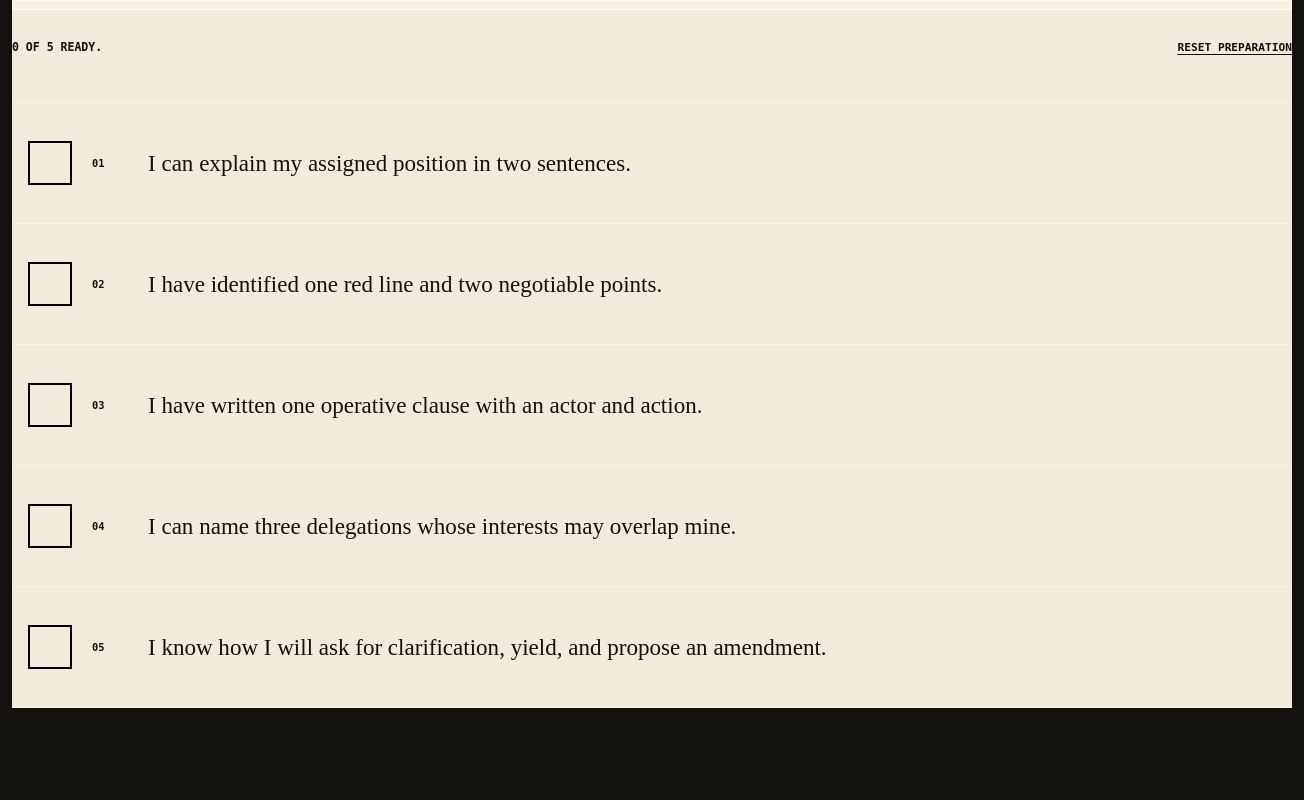
it: PreparationDesk › updates and announces exact progress using native checkboxes
The image size is (1304, 800).
Check: the message shows "0 of 5 ready", box [12,40,102,54]
What coordinates should you click on to do the following:
click the checkbox labelled "01 I can explain my assigned position in two sentences."
I would click on:
 (50, 163)
Its box is [28,141,72,185].
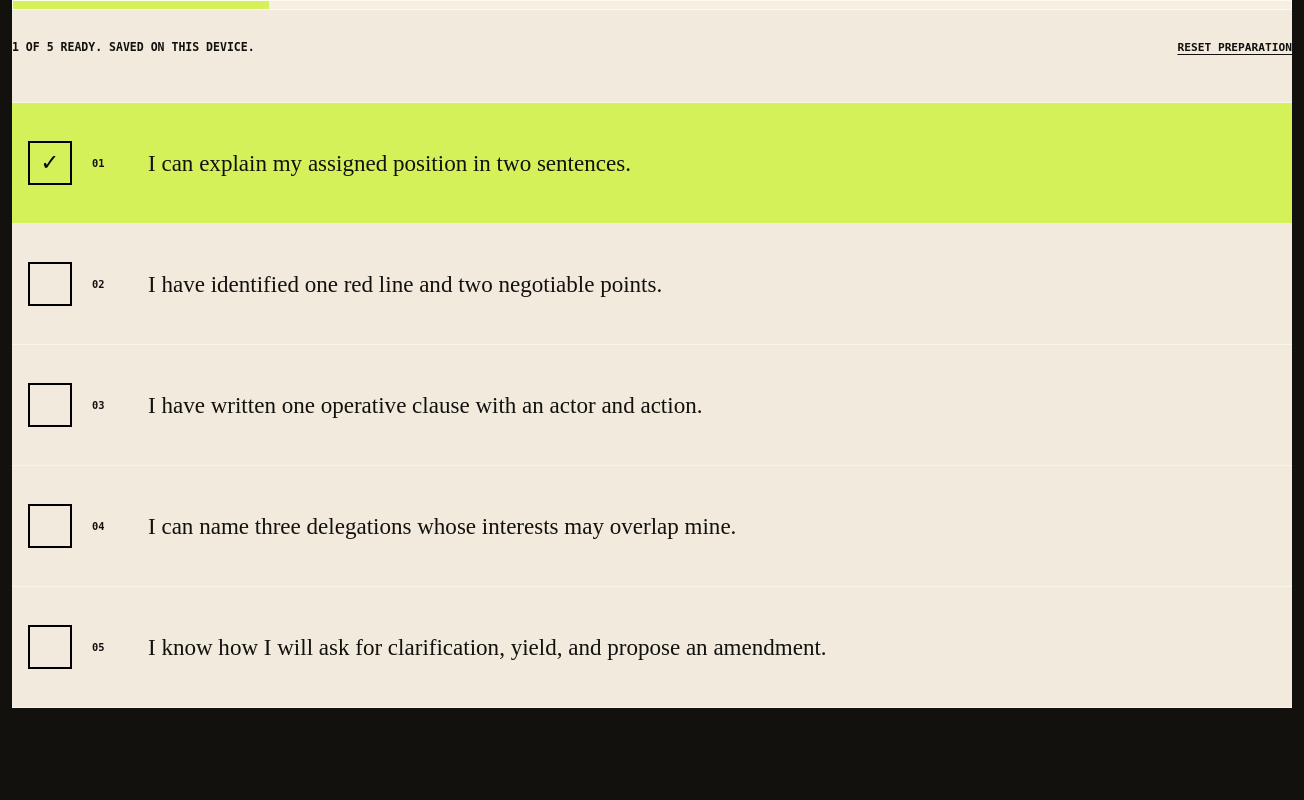
Check: the message shows "1 of 5 ready", box [12,40,255,54]
Check: the message shows "Saved on this device", box [12,40,255,54]
What coordinates should you click on to do the following:
click the checkbox labelled "02 I have identified one red line and two negotiable points."
I would click on:
 (50, 284)
Its box is [28,262,72,306].
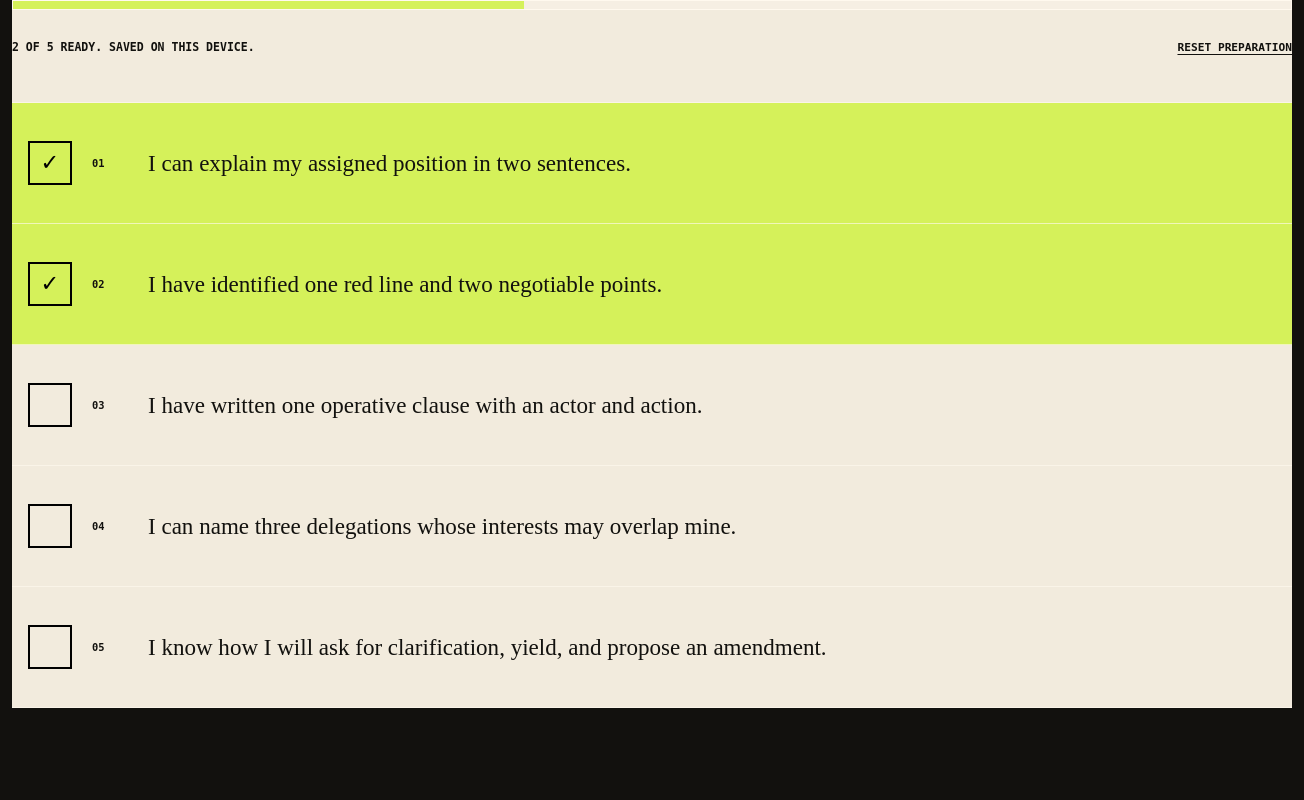
What coordinates should you click on to do the following:
click the 3rd checkbox
I would click on:
 (50, 405)
Its box is [28,383,72,427].
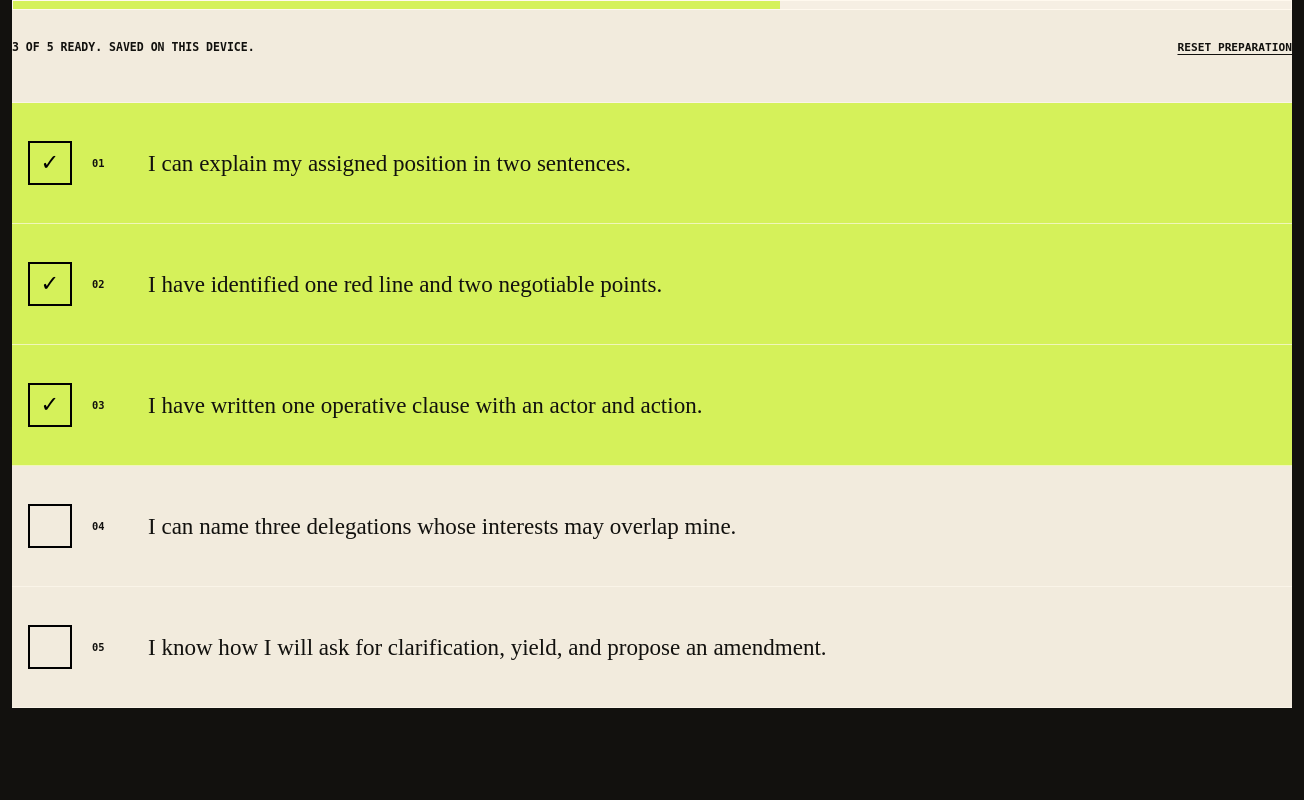
What coordinates should you click on to do the following:
click the 4th checkbox
I would click on:
 (50, 526)
Its box is [28,504,72,548].
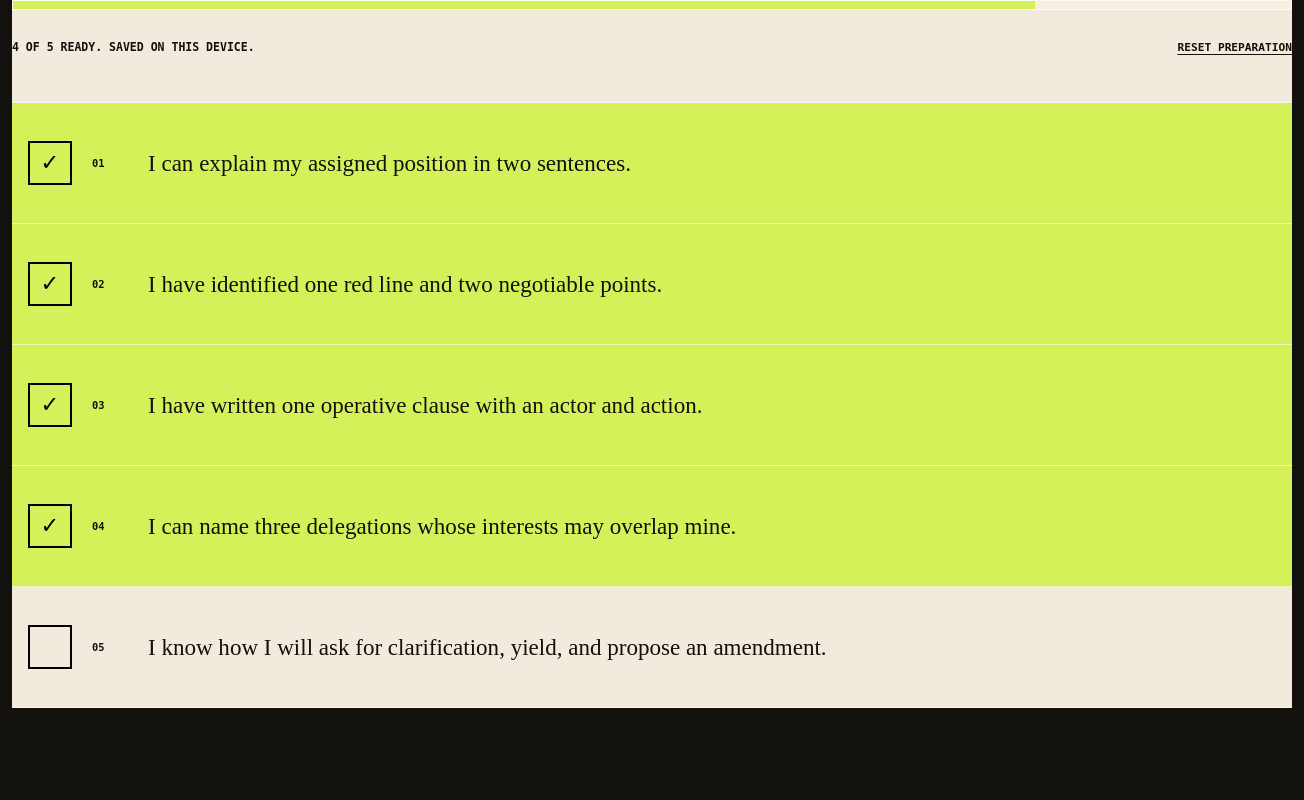
What coordinates should you click on to do the following:
click the 5th checkbox
I would click on:
 (50, 647)
Its box is [28,625,72,669].
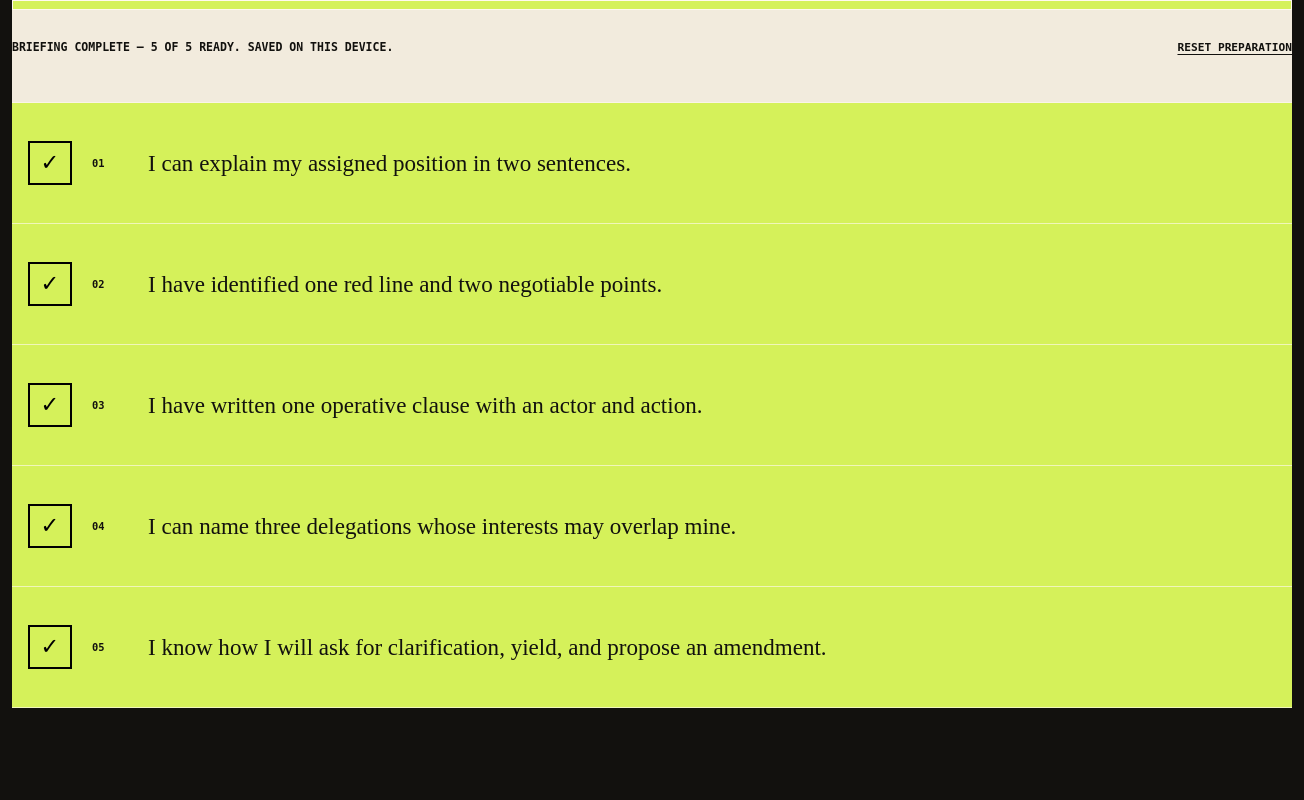
Check: the message shows "Briefing complete", box [12,40,393,54]
